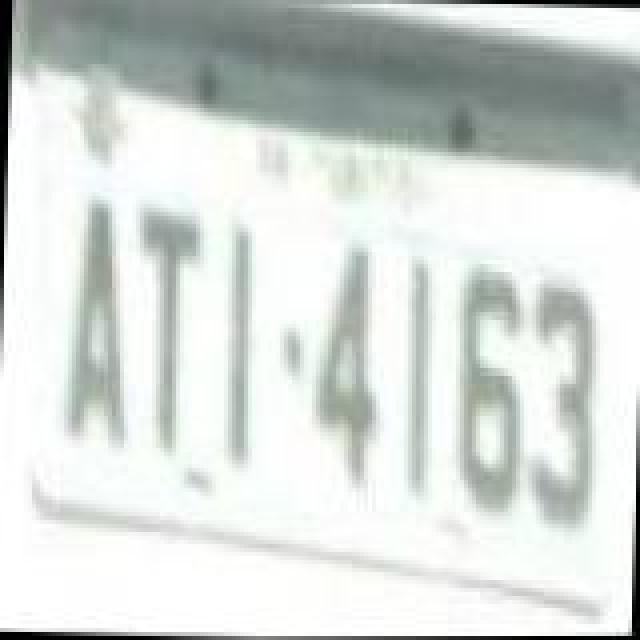1: (214, 222, 254, 474), (398, 252, 430, 504)
3: (520, 272, 596, 536)
4: (304, 238, 380, 494)
6: (448, 260, 524, 524)
A: (58, 188, 134, 452)
T: (126, 202, 202, 458)
